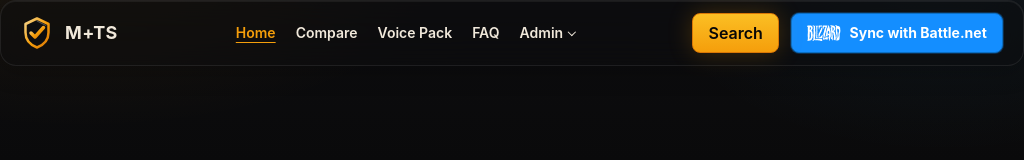
Test: AppHeader admin navigation › shows Misc tools and FAQ when settings permission is granted
This screenshot has width=1024, height=160.
Click the button with test id "nav-dropdown-trigger" at (547, 33), box [520, 22, 574, 44]
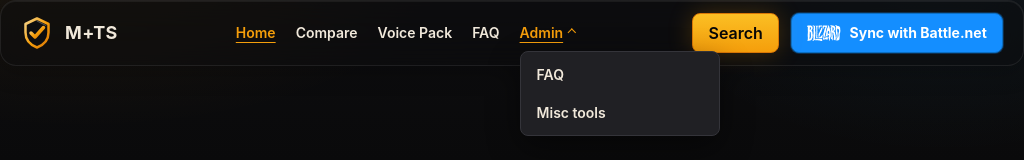
expect the element with test id "admin-nav-dropdown" shows "Misc tools": met, box [525, 94, 715, 131]
expect the element with test id "admin-nav-dropdown" shows "FAQ": met, box [525, 56, 715, 94]
expect the link to "/admin/faq" is shown: met, box [537, 66, 564, 83]
